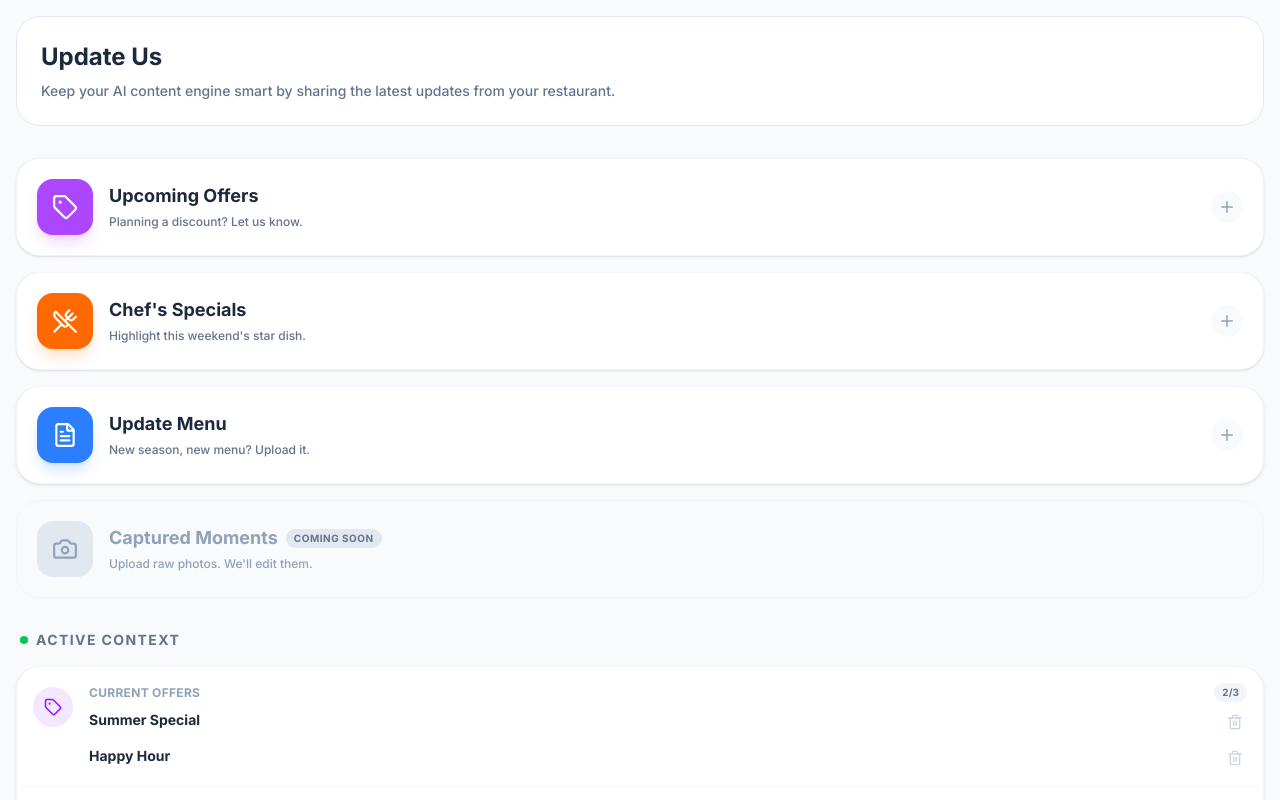
Inputs Component › Modal Interactions › should open specials modal when button is clicked
Click the button "Chef's Specials Highlight this weekend's star dish.". click: (65, 321)
box: [16,272,1264,370]
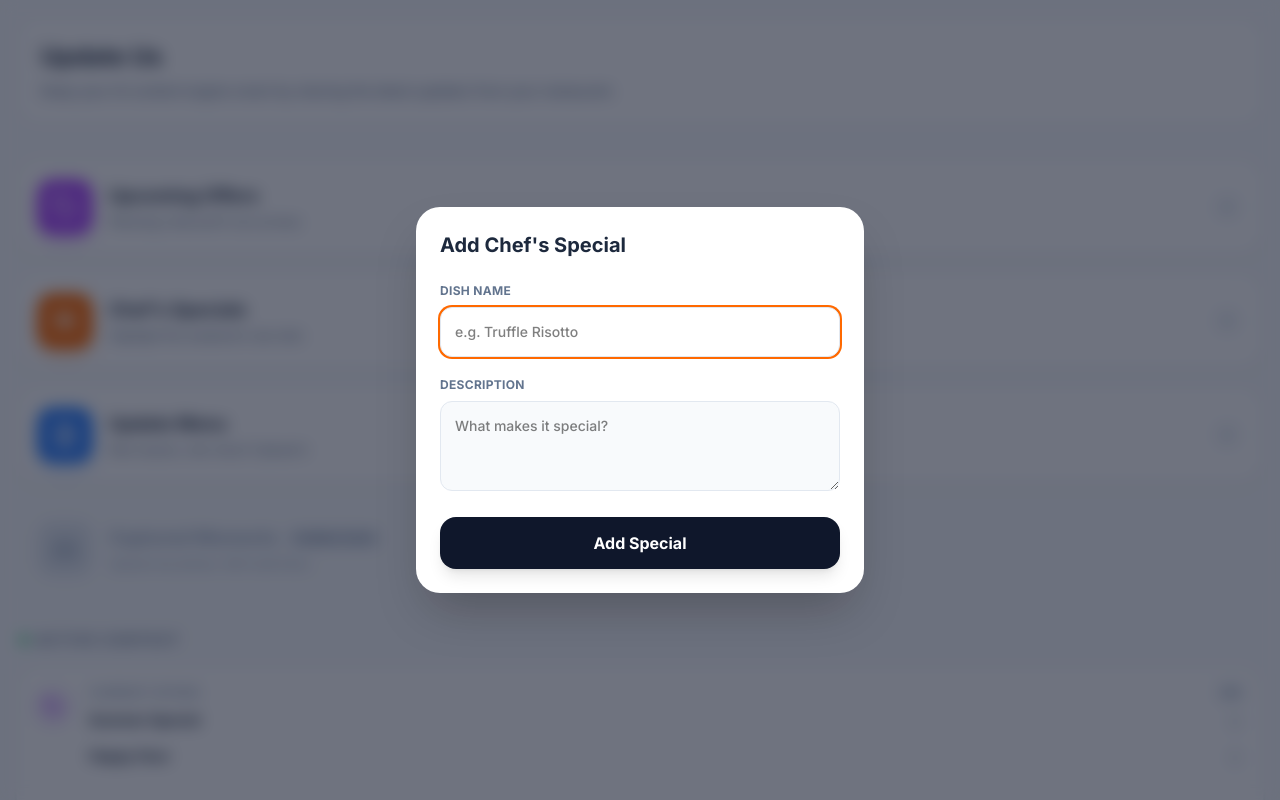
Expected: the heading "Add Chef's Special" is shown, [440,231,626,259]
